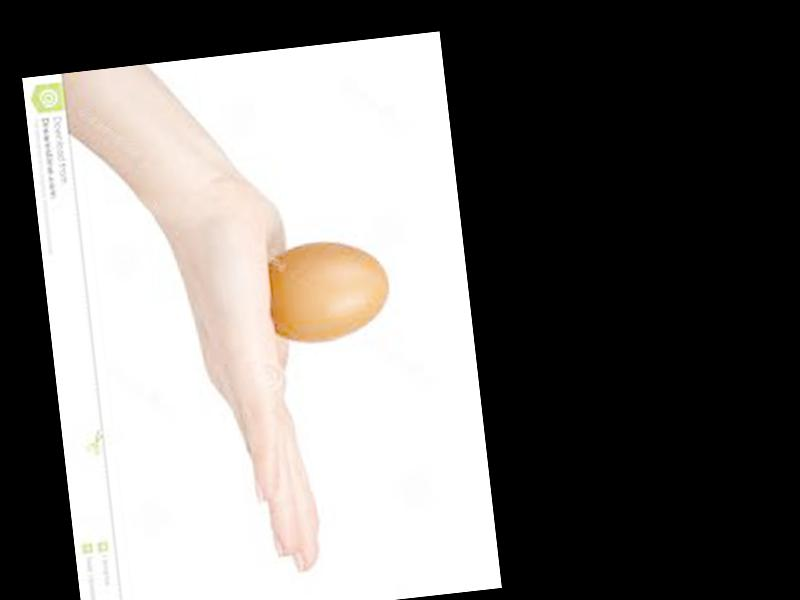Eggs: (261, 237, 393, 348)
